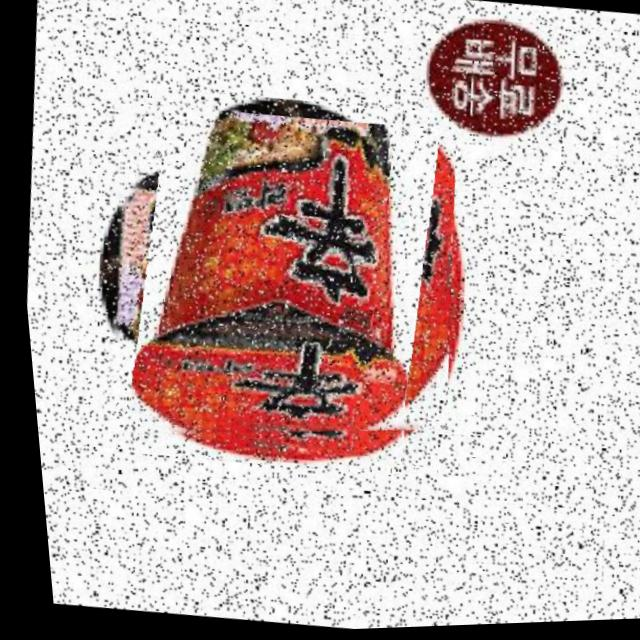Miscellaneous: (79, 92, 476, 475)
